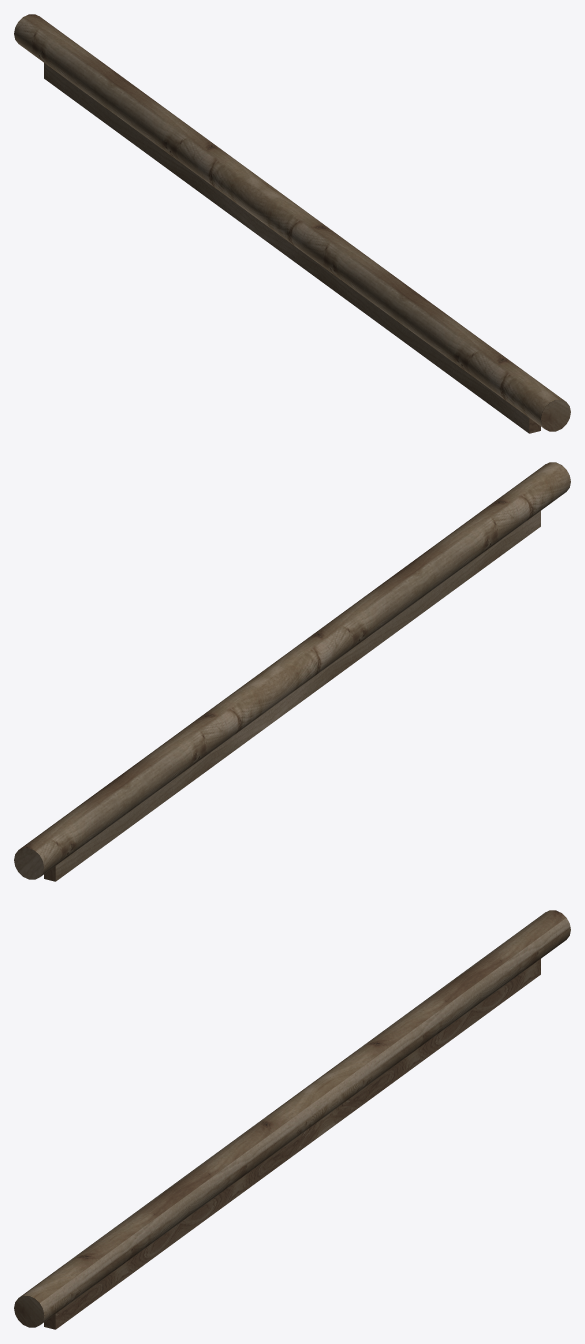
Rendered from SM_Sun_Won_Dori_A.fbx.
3 renders of one model, top to bottom at view 1: azimuth 30°, elevation 25°; view 2: azimuth 150°, elevation 25°; view 3: azimuth 330°, elevation 25°, orthographic.
Visible parts, largest first — view 1: SM_Sun_Won_Dori_A; view 2: SM_Sun_Won_Dori_A; view 3: SM_Sun_Won_Dori_A.
Boxes of the visible parts, x1,y1,x2,y2 form: SM_Sun_Won_Dori_A: (14,14,570,433); SM_Sun_Won_Dori_A: (14,462,570,881); SM_Sun_Won_Dori_A: (14,910,570,1329).
Bounding box in the file's own units: 28 × 42.18 × 848.
